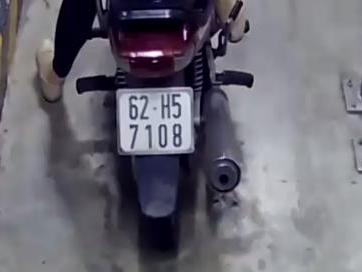num_plate: (116, 90, 198, 156)
